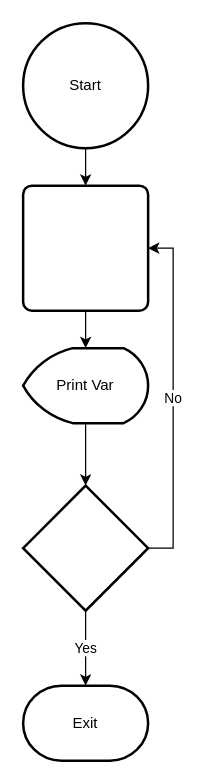
Some shapes in this 205 by 783 pixel diagram are drawn without their labels. The shapes that lost their labels are listed below. From the top down, each one's centre as x and y in pixels, then its label:
At (x=85, y=247): "Var + 1".
At (x=85, y=547): "Var = 20 ?".
